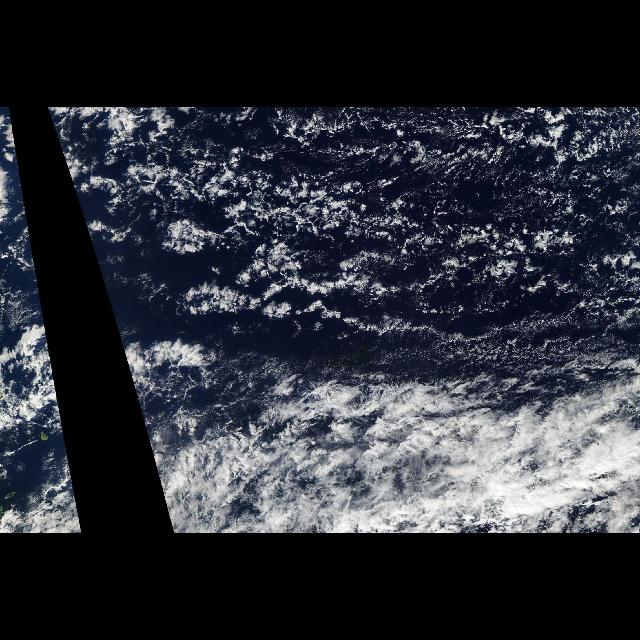Gravel: (299, 156, 607, 332)
